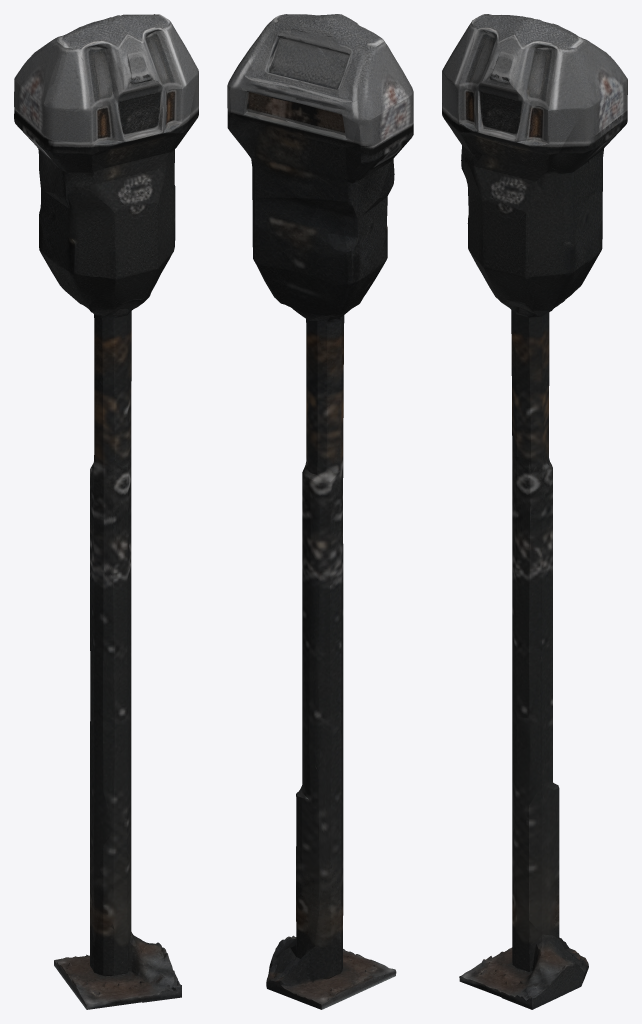
File: coin-parking-meter.glb
3 renders of one model, left to right at view 1: azimuth 30°, elevation 25°; view 2: azimuth 150°, elevation 25°; view 3: azimuth 330°, elevation 25°, orthographic.
Visible parts, largest first — view 1: Mesh_0; view 2: Mesh_0; view 3: Mesh_0.
Part boxes in pixels (x1,y1,x2,y2): Mesh_0: [14, 14, 198, 1009]; Mesh_0: [227, 14, 413, 1009]; Mesh_0: [442, 14, 627, 1009].
Bounding box in the file's own units: 0.3154 × 1.9 × 0.2309.
1 material, 1 textured.
